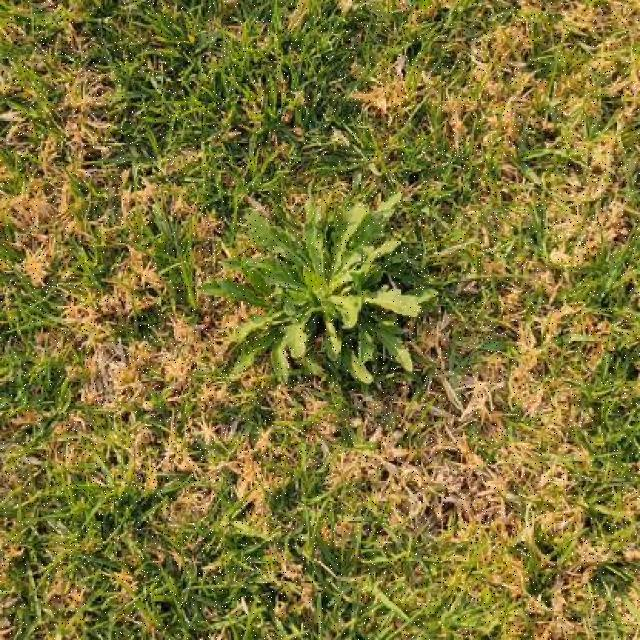weed: (202, 196, 437, 384)
